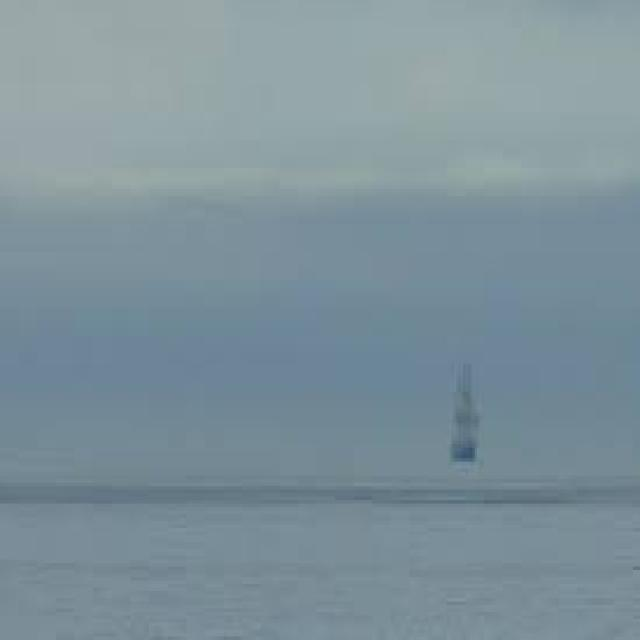fishing boat: (445, 358, 497, 478)
